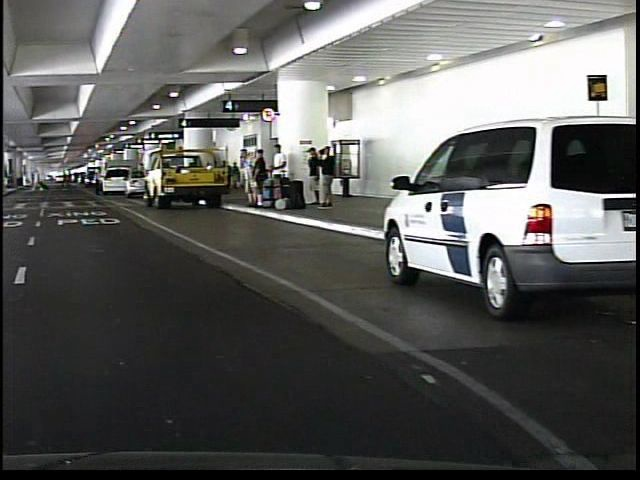person: (315, 143, 332, 208), (233, 144, 251, 205), (25, 161, 44, 195), (87, 166, 100, 198)
